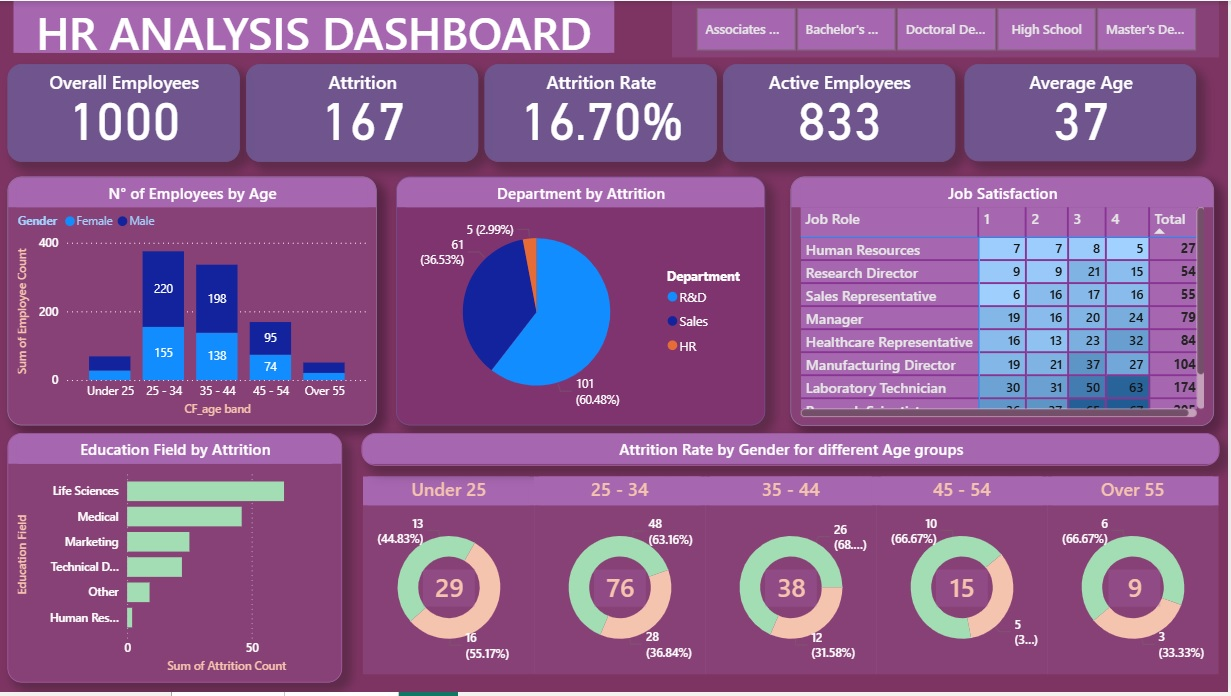

The page's visual inventory and layout, read from the dashboard file:
{"tool":"powerbi","page":{"name":"Page 1","canvas":[1280,720],"ordinal":0},"visuals":[{"type":"card","title":"Overall Employees","fields":{"Values":["Sum(HR Data xlsx - HR data.Employee Count)"]},"box":[7.1,65.1,241.9,101.8],"z":0},{"type":"card","title":"Attrition","fields":{"Values":["Sum(HR Data xlsx - HR data.Attrition Count)"]},"box":[256,65.1,241.9,101.8],"z":1000},{"type":"card","title":"Attrition Rate","fields":{"Values":["HR Data xlsx - HR data.attrition rate"]},"box":[505,65.1,241.9,101.8],"z":2000},{"type":"card","title":"Active Employees","fields":{"Values":["HR Data xlsx - HR data.active employees"]},"box":[753.9,65.1,241.9,101.8],"z":3000},{"type":"card","title":"Average Age","fields":{"Values":["Avg(HR Data xlsx - HR data.Age)"]},"box":[1005.7,65.7,241.4,101.4],"z":4000},{"type":"pieChart","title":"Department by Attrition","fields":{"Category":["HR Data xlsx - HR data.Department"],"Y":["Sum(HR Data xlsx - HR data.Attrition Count)"]},"box":[412.6,182.9,384.5,259.5],"z":5000},{"type":"columnChart","title":"N° of Employees by Age","fields":{"Category":["HR Data xlsx - HR data.CF_age band"],"Y":["Sum(HR Data xlsx - HR data.Employee Count)"],"Series":["HR Data xlsx - HR data.Gender"]},"box":[7.8,182.9,384.5,259.5],"z":6000},{"type":"pivotTable","title":"Job Satisfaction","fields":{"Rows":["HR Data xlsx - HR data.Job Role"],"Columns":["HR Data xlsx - HR data.Job Satisfaction"],"Values":["Sum(HR Data xlsx - HR data.Employee Count)"]},"box":[824.3,182.9,441.4,260],"z":7000},{"type":"barChart","title":"Education Field by Attrition","fields":{"Category":["HR Data xlsx - HR data.Education Field"],"Y":["Sum(HR Data xlsx - HR data.Attrition Count)"]},"box":[7.1,450,348.6,260],"z":8000},{"type":"donutChart","title":"Under 25","fields":{"Category":["HR Data xlsx - HR data.Gender"],"Y":["Sum(HR Data xlsx - HR data.Attrition Count)"],"Series":["HR Data xlsx - HR data.CF_age band"]},"box":[378.6,495.7,178.6,205.7],"z":9000},{"type":"textbox","title":"Attrition Rate by Gender for different Age groups","box":[377.1,450,894.3,34.3],"z":10000},{"type":"donutChart","title":"25 - 34","fields":{"Category":["HR Data xlsx - HR data.Gender"],"Y":["Sum(HR Data xlsx - HR data.Attrition Count)"],"Series":["HR Data xlsx - HR data.CF_age band"]},"box":[555.7,495.7,178.6,205.7],"z":11000},{"type":"donutChart","title":"35 - 44","fields":{"Category":["HR Data xlsx - HR data.Gender"],"Y":["Sum(HR Data xlsx - HR data.Attrition Count)"],"Series":["HR Data xlsx - HR data.CF_age band"]},"box":[734.3,495.7,178.6,205.7],"z":12000},{"type":"donutChart","title":"45 - 54","fields":{"Category":["HR Data xlsx - HR data.Gender"],"Y":["Sum(HR Data xlsx - HR data.Attrition Count)"],"Series":["HR Data xlsx - HR data.CF_age band"]},"box":[912.9,495.7,178.6,205.7],"z":13000},{"type":"donutChart","title":"Over 55","fields":{"Category":["HR Data xlsx - HR data.Gender"],"Y":["Sum(HR Data xlsx - HR data.Attrition Count)"],"Series":["HR Data xlsx - HR data.CF_age band"]},"box":[1091.4,495.7,178.6,205.7],"z":14000},{"type":"card","fields":{"Values":["Sum(HR Data xlsx - HR data.Attrition Count)"]},"box":[440,592.9,54.3,38.6],"z":15000},{"type":"card","fields":{"Values":["Sum(HR Data xlsx - HR data.Attrition Count)"]},"box":[618.6,592.9,54.3,38.6],"z":16000},{"type":"card","fields":{"Values":["Sum(HR Data xlsx - HR data.Attrition Count)"]},"box":[797.1,592.9,54.3,38.6],"z":17000},{"type":"card","fields":{"Values":["Sum(HR Data xlsx - HR data.Attrition Count)"]},"box":[975.7,592.9,54.3,38.6],"z":18000},{"type":"card","fields":{"Values":["Sum(HR Data xlsx - HR data.Attrition Count)"]},"box":[1154.3,592.9,54.3,38.6],"z":19000},{"type":"textbox","title":"HR ANALYSIS DASHBOARD","box":[14.3,0,625.7,54.3],"z":20000},{"type":"slicer","fields":{"Values":["HR Data xlsx - HR data.Education"]},"box":[700,0,570,58.6],"z":21000}]}

Visuals, with their boxes in screenshot pixels (x1, y1, x2, y2), scaled from the page's 1280x720 canvas onto the 1231x696 screenshot:
"Overall Employees" card: rect(7, 63, 239, 161)
"Attrition" card: rect(246, 63, 479, 161)
"Attrition Rate" card: rect(486, 63, 718, 161)
"Active Employees" card: rect(725, 63, 958, 161)
"Average Age" card: rect(967, 64, 1199, 162)
"Department by Attrition" pieChart: rect(397, 177, 767, 428)
"N° of Employees by Age" columnChart: rect(8, 177, 377, 428)
"Job Satisfaction" pivotTable: rect(793, 177, 1217, 428)
"Education Field by Attrition" barChart: rect(7, 435, 342, 686)
"Under 25" donutChart: rect(364, 479, 536, 678)
"Attrition Rate by Gender for different Age groups" textbox: rect(363, 435, 1223, 468)
"25 - 34" donutChart: rect(534, 479, 706, 678)
"35 - 44" donutChart: rect(706, 479, 878, 678)
"45 - 54" donutChart: rect(878, 479, 1050, 678)
"Over 55" donutChart: rect(1050, 479, 1221, 678)
card - Sum(HR Data xlsx - HR data.Attrition Count): rect(423, 573, 475, 610)
card - Sum(HR Data xlsx - HR data.Attrition Count): rect(595, 573, 647, 610)
card - Sum(HR Data xlsx - HR data.Attrition Count): rect(767, 573, 819, 610)
card - Sum(HR Data xlsx - HR data.Attrition Count): rect(938, 573, 991, 610)
card - Sum(HR Data xlsx - HR data.Attrition Count): rect(1110, 573, 1162, 610)
"HR ANALYSIS DASHBOARD" textbox: rect(14, 0, 616, 52)
slicer - HR Data xlsx - HR data.Education: rect(673, 0, 1221, 57)
